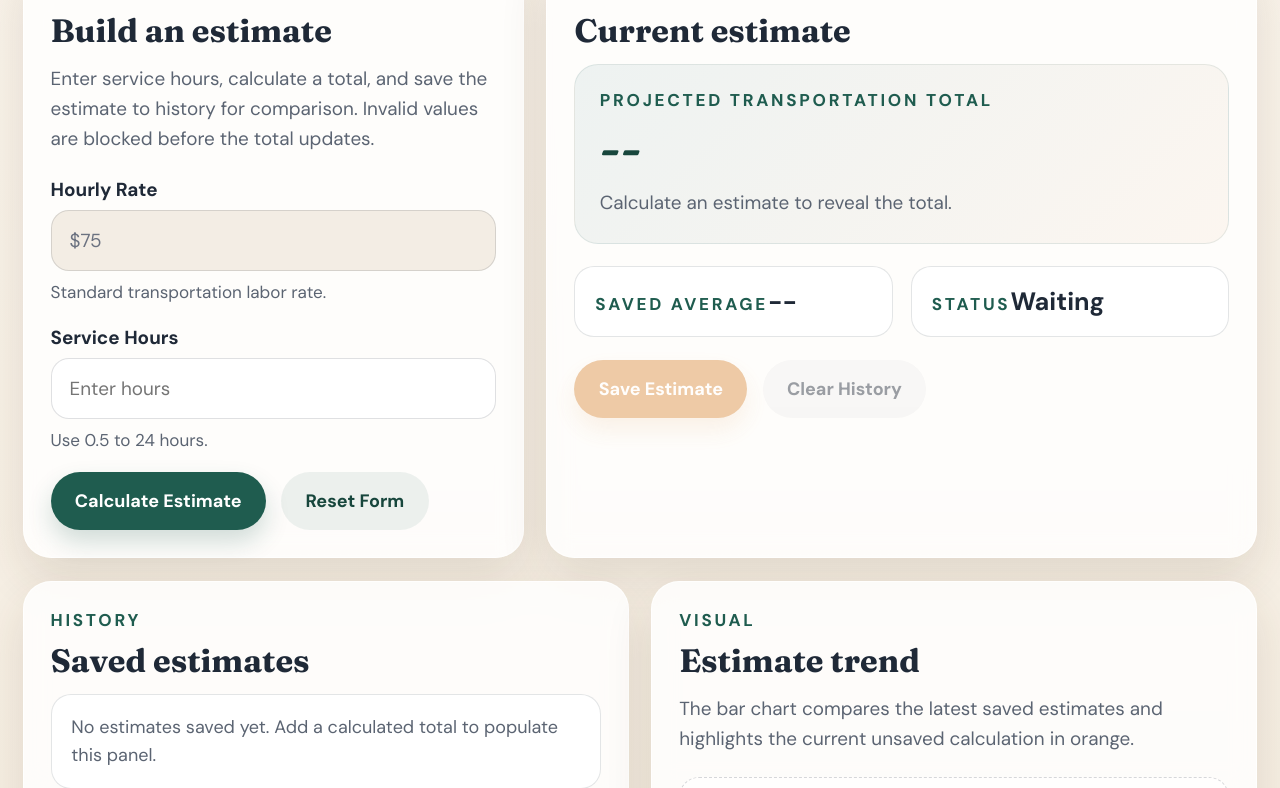
Test case: displays the correct total after entering valid hours
(page scrolled)
Type "3" into the number field labelled "Service Hours". click: (273, 388)
box: [50,358,496,419]
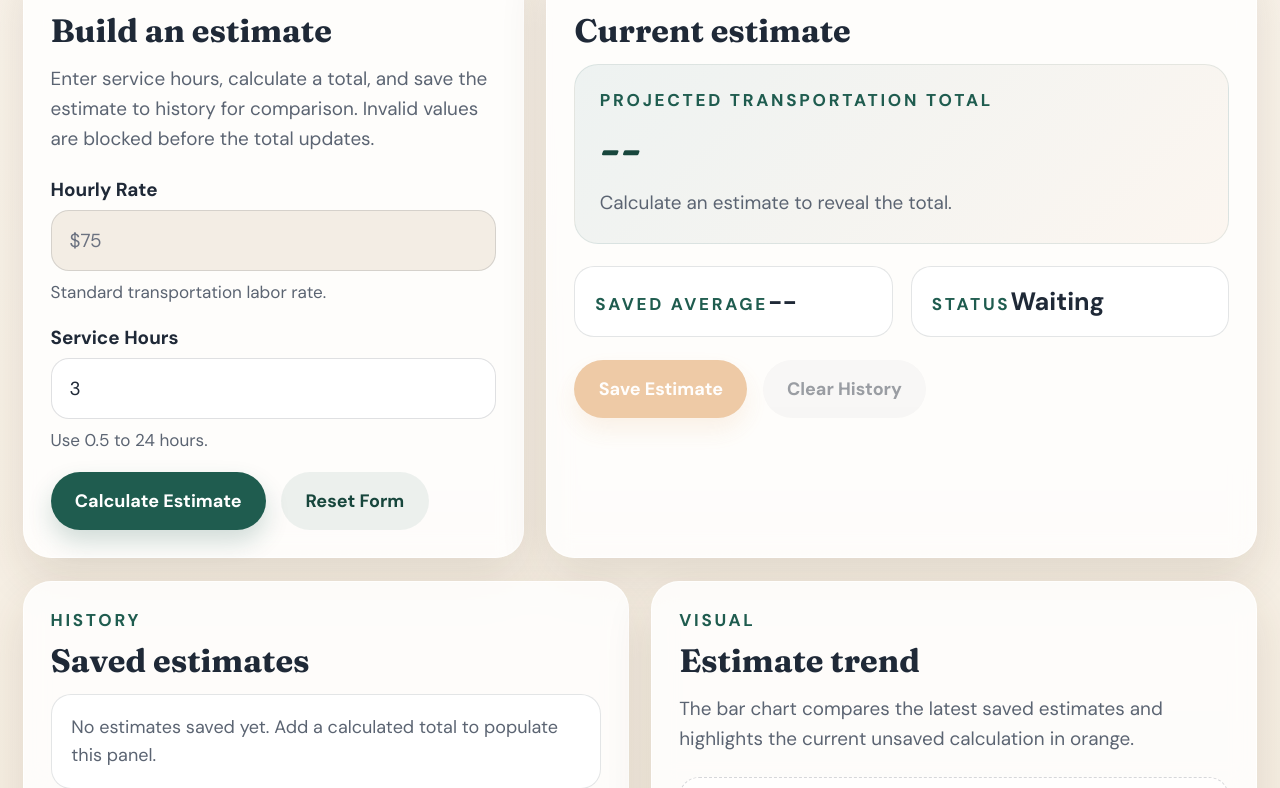
Click the button "Calculate Estimate". click: (158, 501)
box: [50,472,266,530]
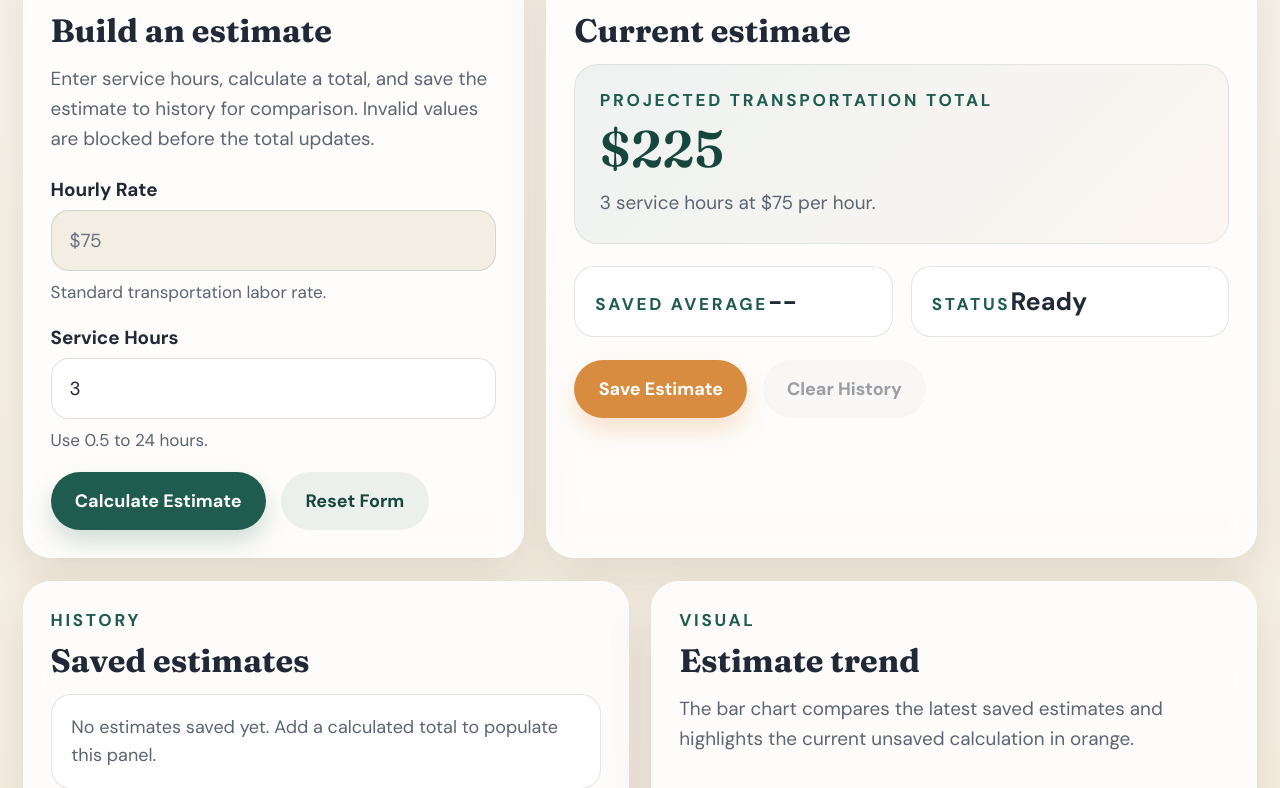
Now the text "$225" is shown, box [600,117,724,180]
